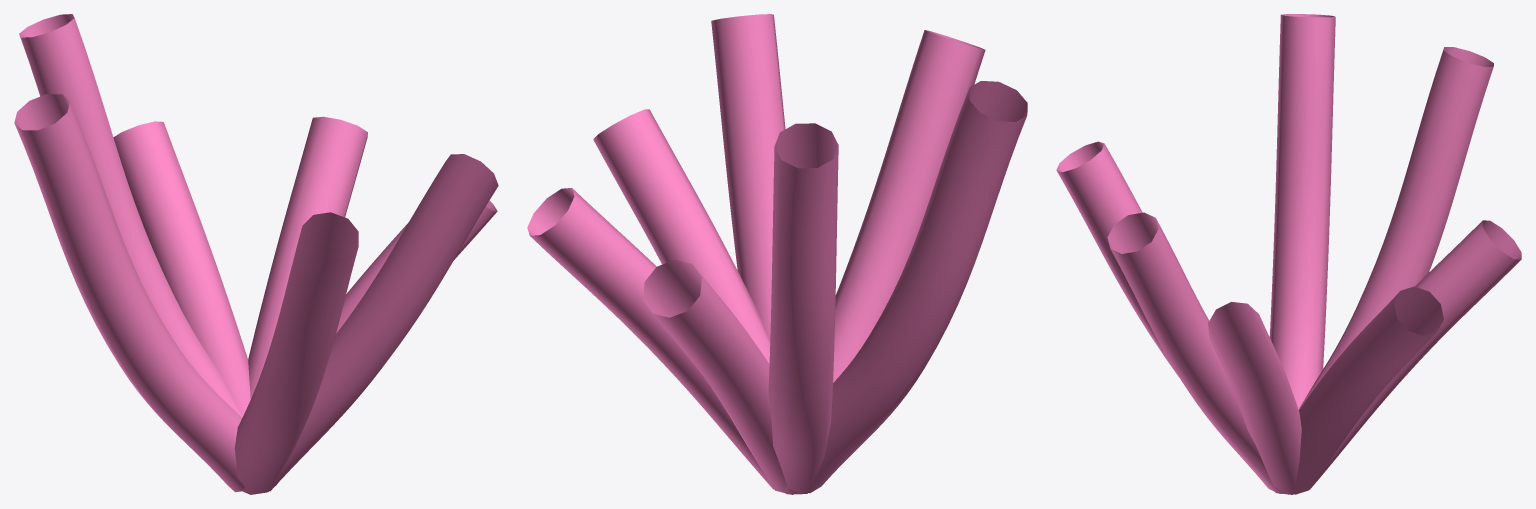
File: coral.glb
The picture shows the model from 3 angles, left to right: view 1: azimuth 30°, elevation 25°; view 2: azimuth 150°, elevation 25°; view 3: azimuth 270°, elevation 25°; orthographic projection. The views are drawn at different scales.
Visible parts, largest first — view 1: Coral finger.001; view 2: Coral finger.001; view 3: Coral finger.001.
Part boxes in pixels (x1=…): Coral finger.001: x1=14, y1=14, x2=498, y2=494; Coral finger.001: x1=527, y1=14, x2=1027, y2=494; Coral finger.001: x1=1056, y1=14, x2=1521, y2=494.
Bounding box in the file's own units: 2.18 × 2.02 × 2.19.
